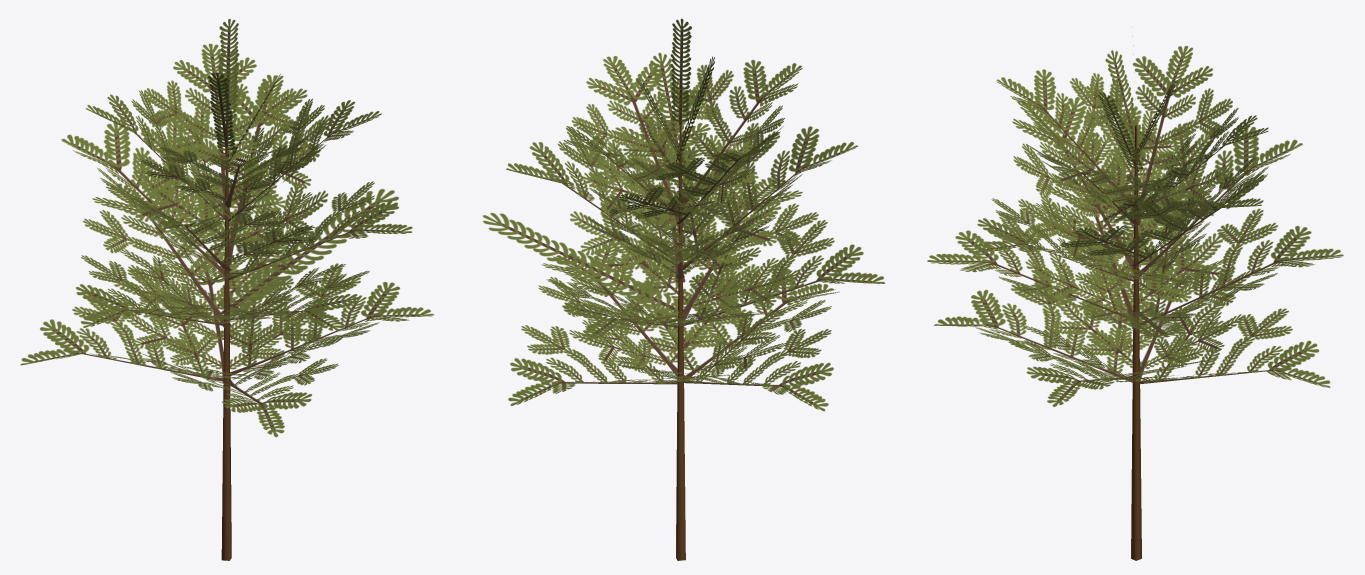
The model's file is Young_Fir_Tree_1.glb.
3 renders of one model, left to right at view 1: azimuth 30°, elevation 25°; view 2: azimuth 150°, elevation 25°; view 3: azimuth 270°, elevation 25°, orthographic.
Parts seen in each view (by area): view 1: Young_Fir_Tree_1; view 2: Young_Fir_Tree_1; view 3: Young_Fir_Tree_1.
Part boxes in pixels (x1,y1,x2,y2): Young_Fir_Tree_1: (20,19,433,560); Young_Fir_Tree_1: (482,18,884,560); Young_Fir_Tree_1: (927,36,1343,560).
Size of the model in its own units: 0.8746 by 1.23 by 0.8856.
2 materials, 2 textured.
